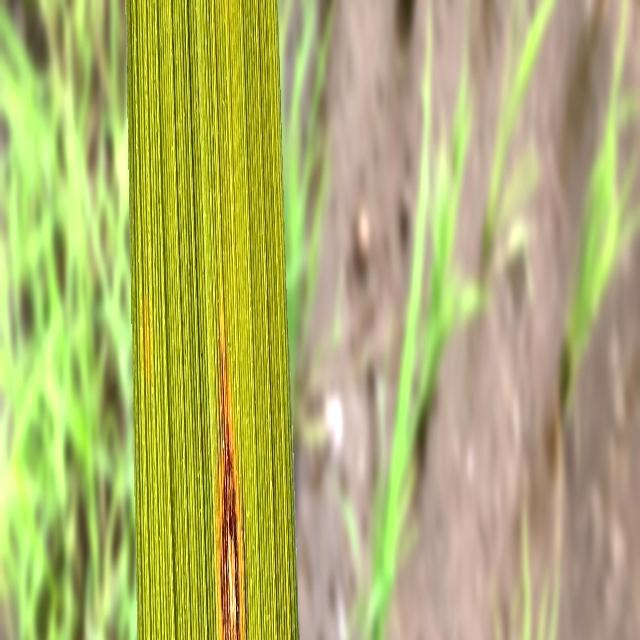LEAF BLAST: (218, 331, 242, 640)
